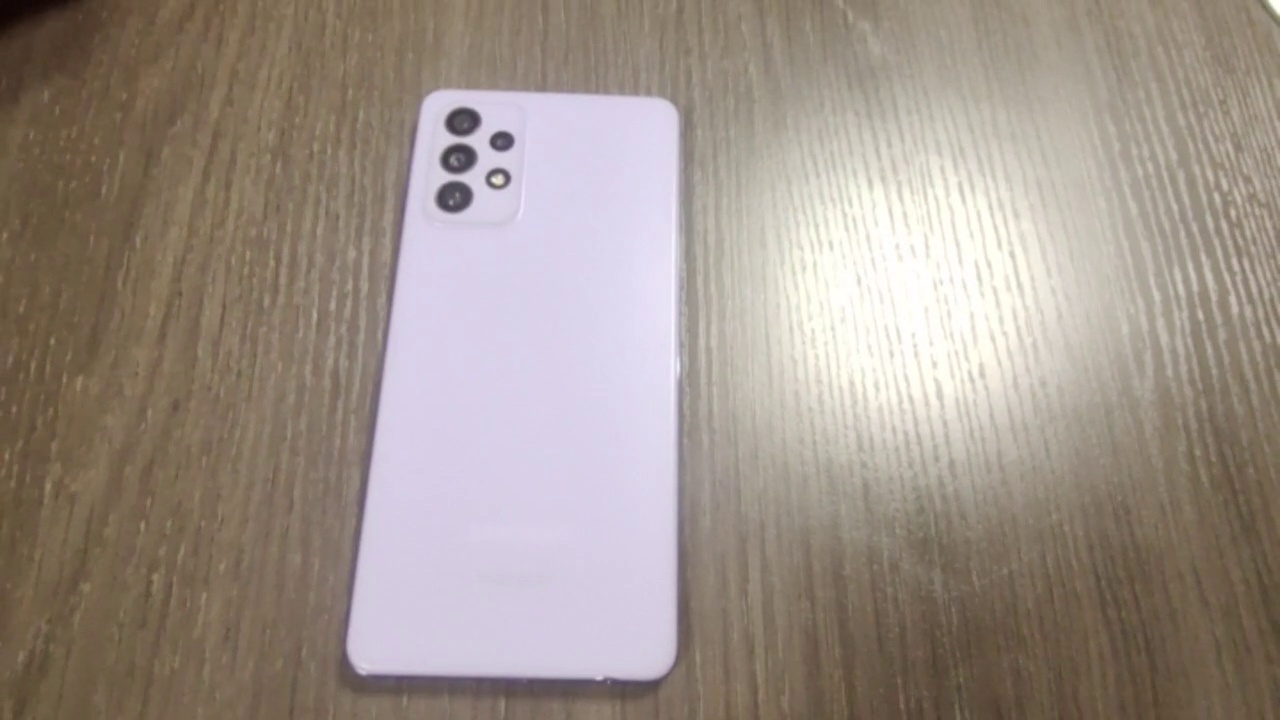celular: (341, 89, 686, 685)
